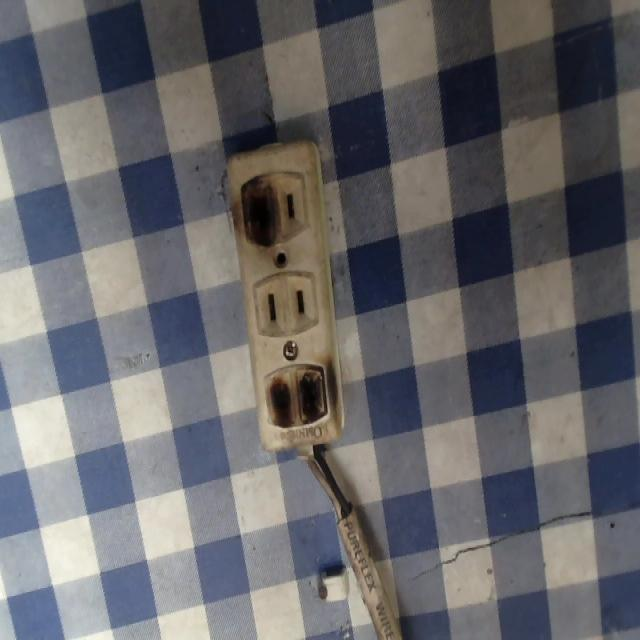-: (261, 360, 342, 435), (235, 166, 285, 250)
